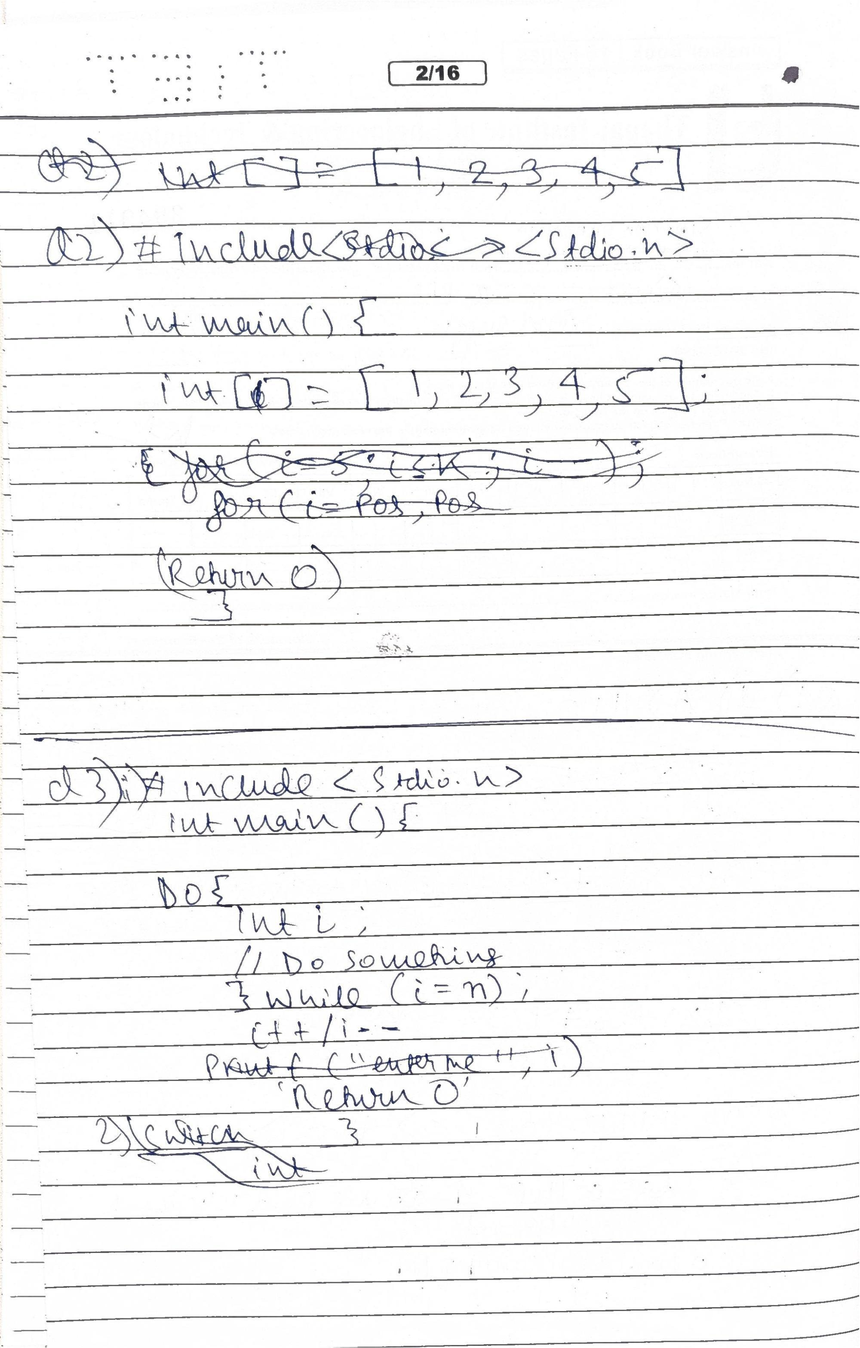cuttings: (164, 434, 666, 506), (159, 139, 690, 203), (200, 1031, 585, 1085), (93, 1112, 330, 1193), (203, 486, 516, 535), (36, 131, 139, 206), (341, 227, 508, 263), (136, 445, 176, 491)
